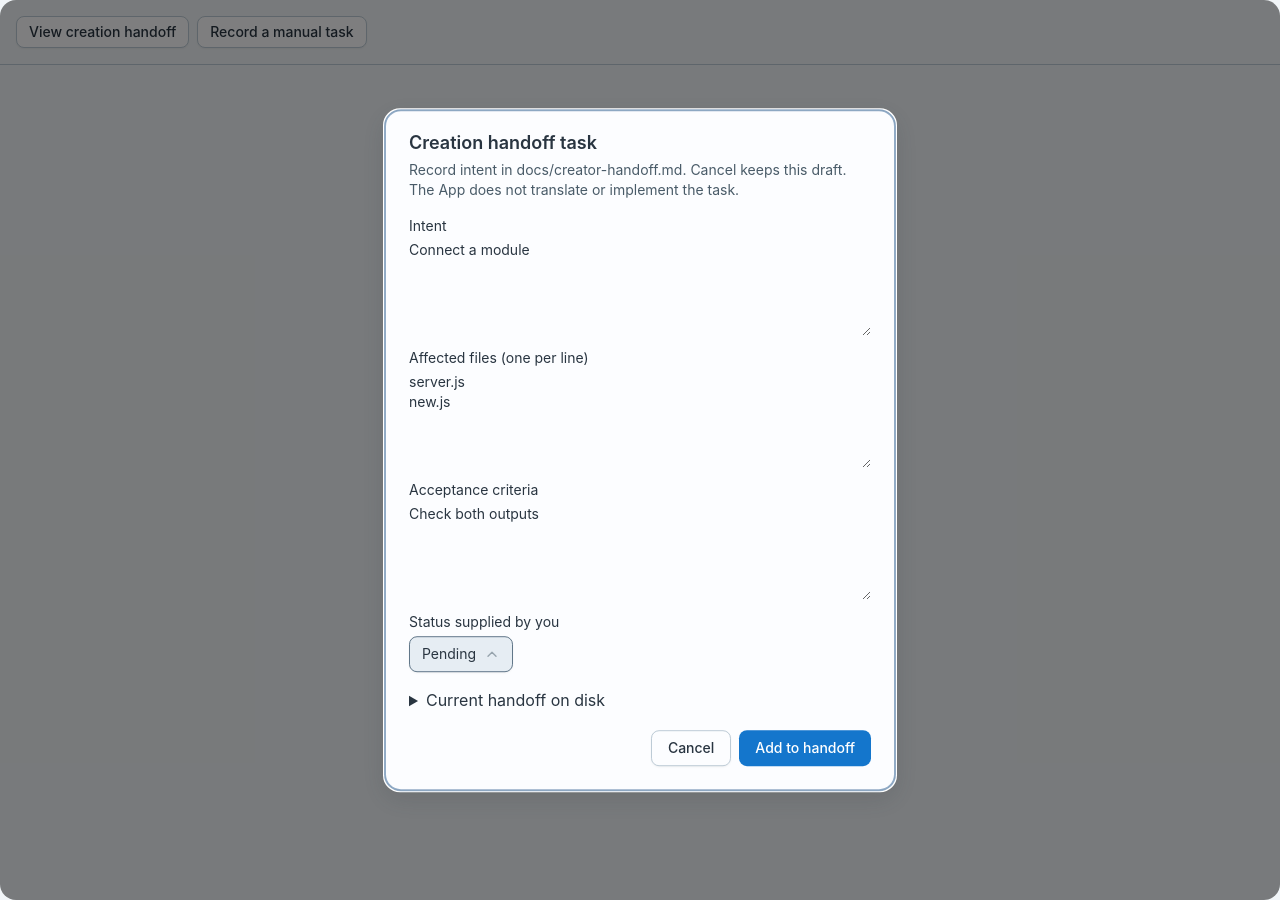
Test: reports task success and baseline failure separately without claiming comparison readiness
Click the button "Add to handoff": (805, 748) left=739, top=730, right=871, bottom=766
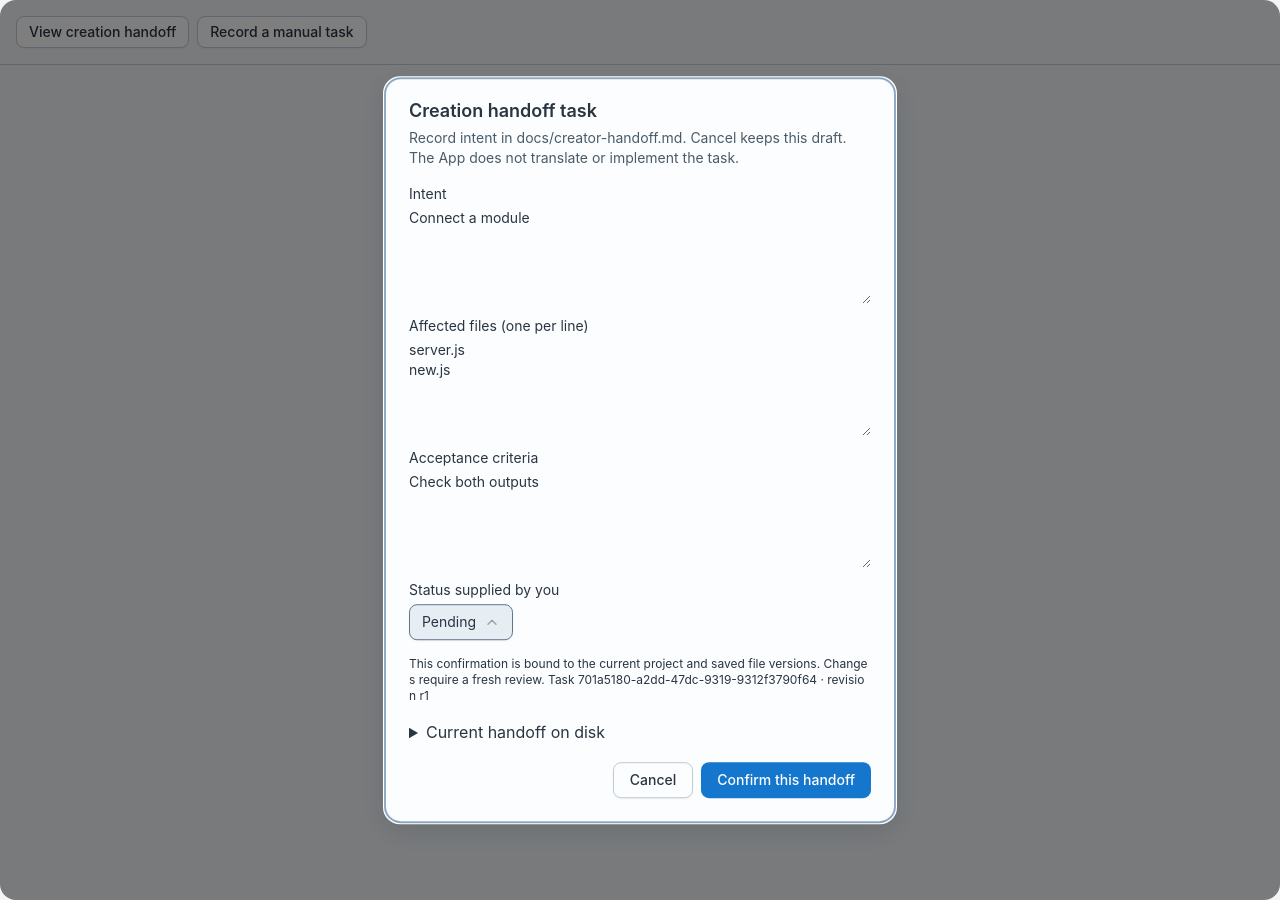
Click the button "Confirm this handoff": (786, 780) left=701, top=762, right=871, bottom=798
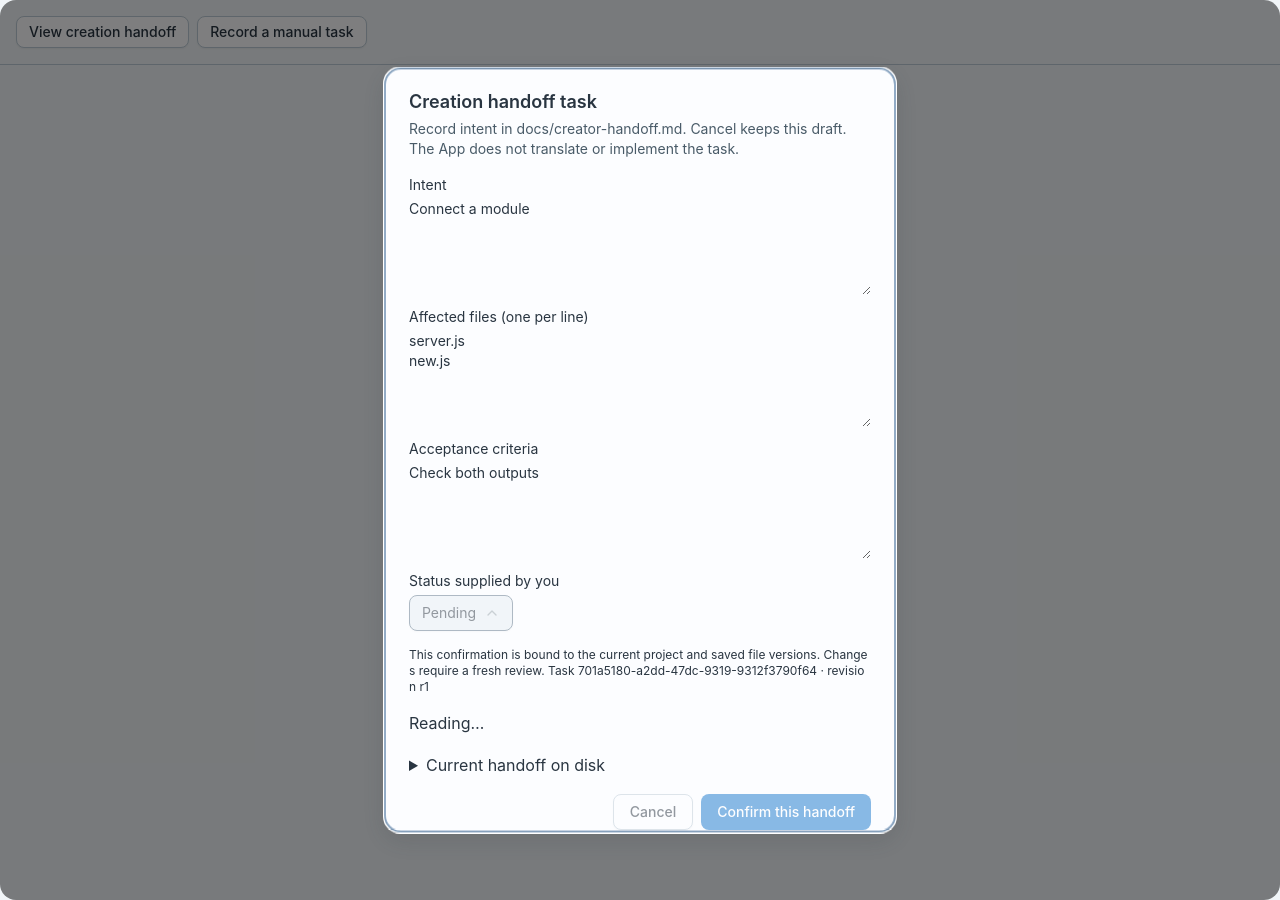
Click the button "Confirm this handoff": (786, 812) left=701, top=794, right=871, bottom=830
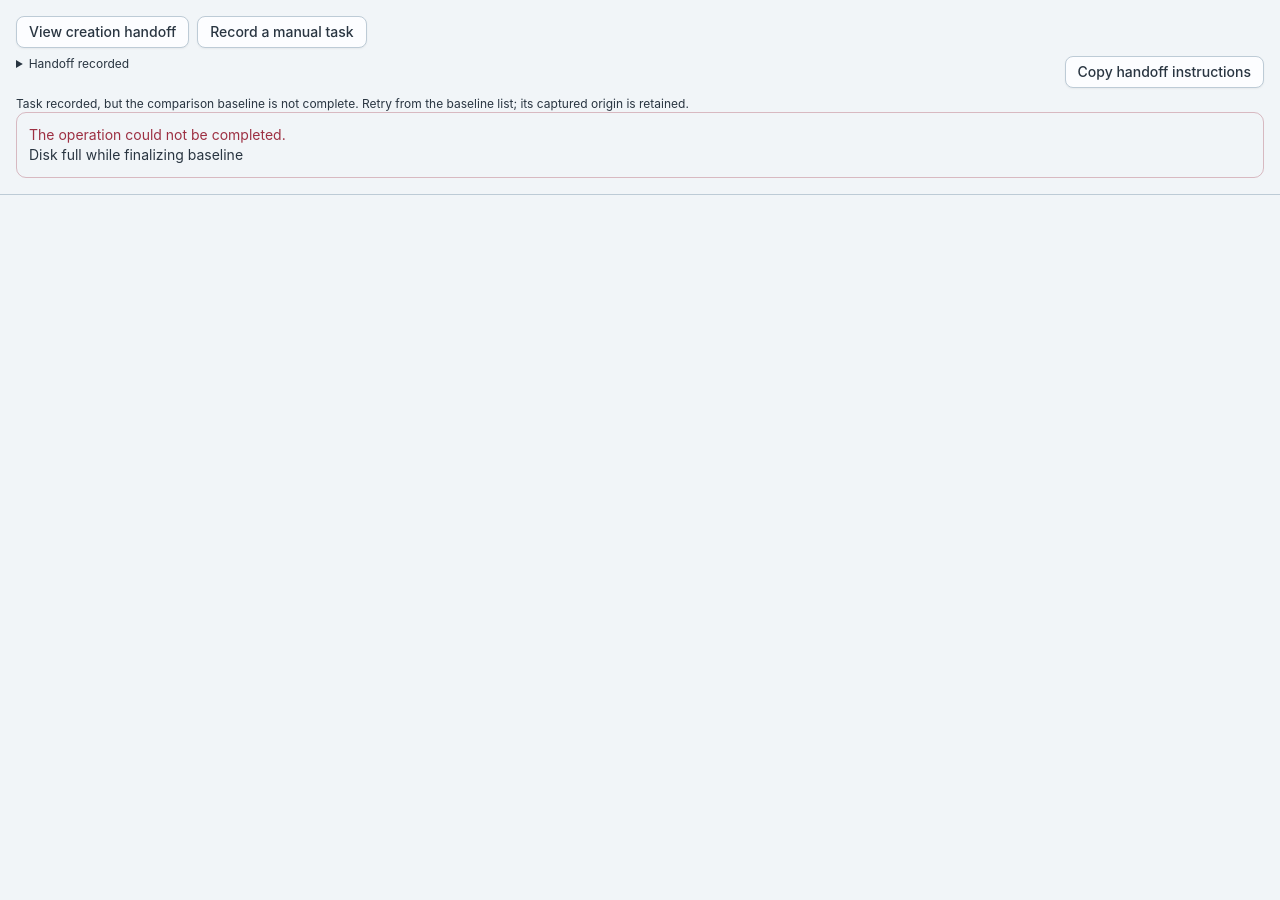
Result: the text "Task recorded, but the comparison baseline is not complete" is shown at left=16, top=96, right=689, bottom=111
